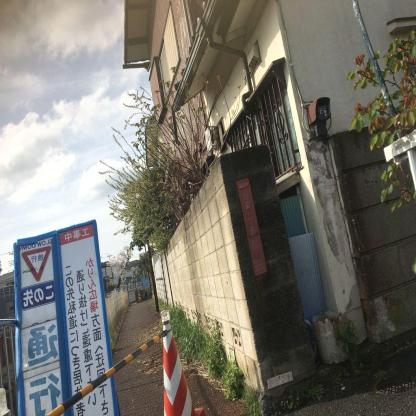Someiyoshino: (105, 238, 137, 287)
